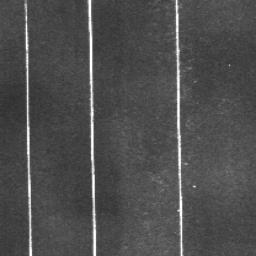Bright scratch: (87, 0, 96, 256), (24, 0, 32, 256), (175, 0, 183, 256)
